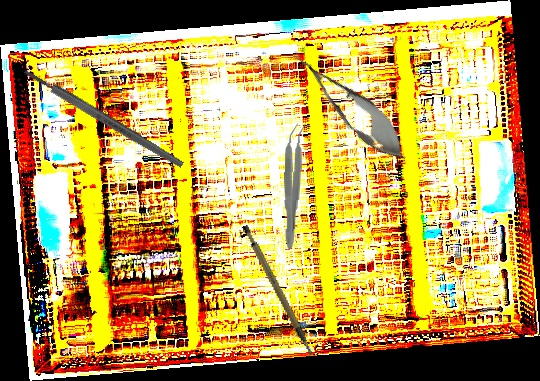Micro Scissor: (279, 37, 419, 172)
Scalpel Handle: (22, 66, 185, 171), (240, 218, 314, 364)
Tissue Forceps: (281, 122, 307, 250)
